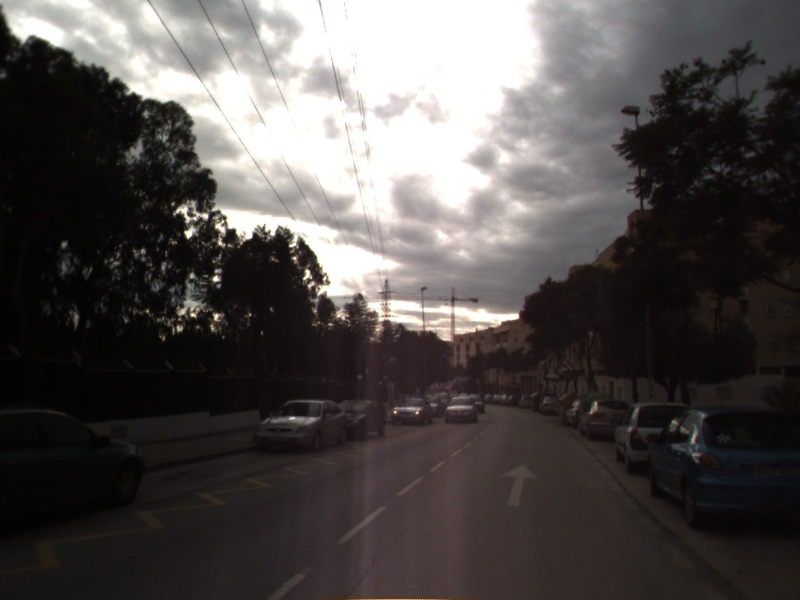STRAIGHT: (499, 462, 542, 508)
